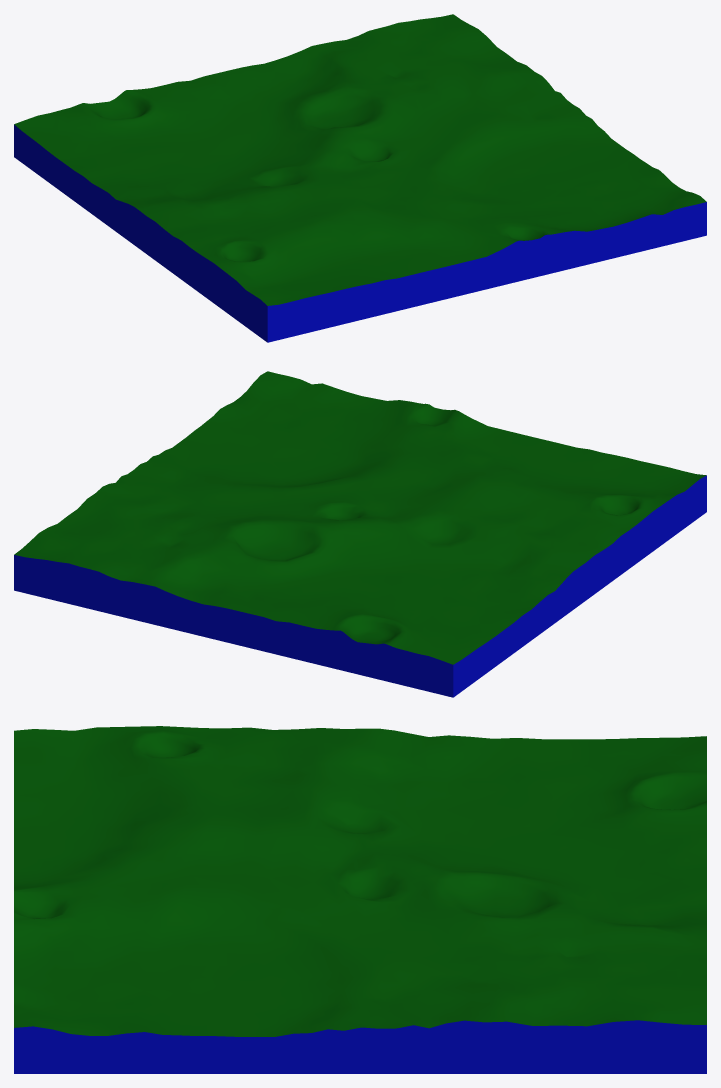
The model's file is Bruno_LP.fbx.
The picture shows the model from 3 angles, top to bottom: view 1: azimuth 30°, elevation 25°; view 2: azimuth 150°, elevation 25°; view 3: azimuth 270°, elevation 25°; orthographic projection. The views are drawn at different scales.
Parts seen in each view (by area): view 1: Bruno_LP; view 2: Bruno_LP; view 3: Bruno_LP.
Boxes of the visible parts, x1,y1,x2,y2 form: Bruno_LP: (14,14,706,342); Bruno_LP: (14,371,706,697); Bruno_LP: (14,726,706,1073).
Bounding box in the file's own units: 2999 × 295 × 2999.
